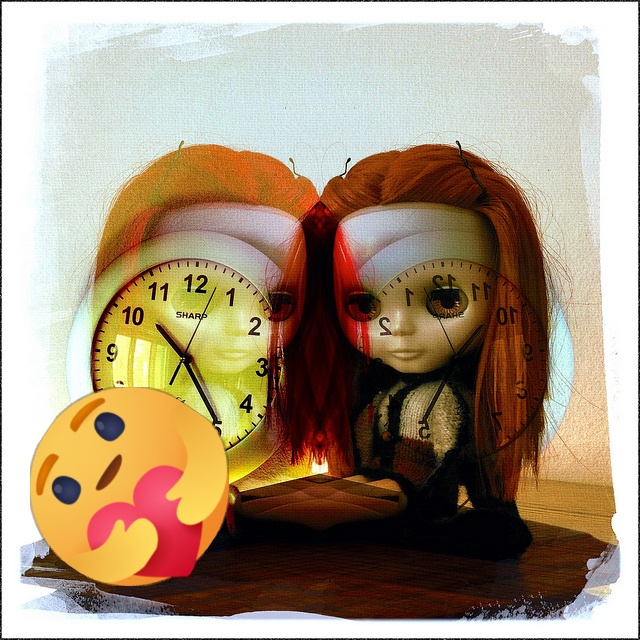care: (30, 387, 229, 586)
